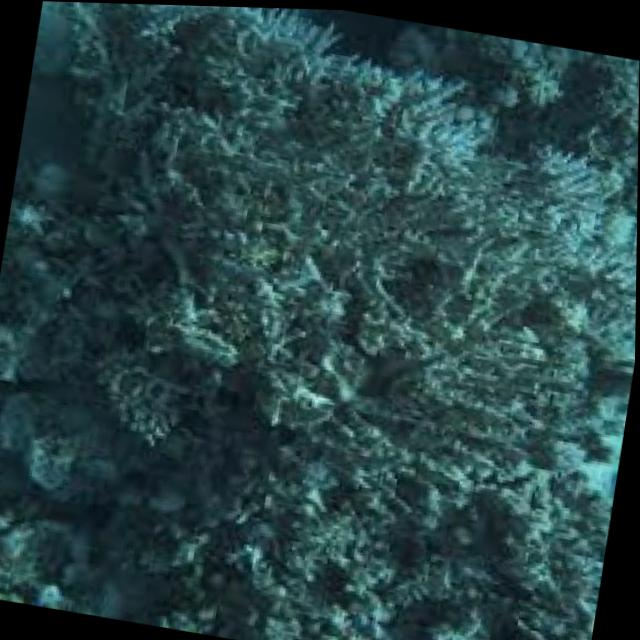Dead Coral: (0, 0, 640, 640), (14, 0, 631, 527)
